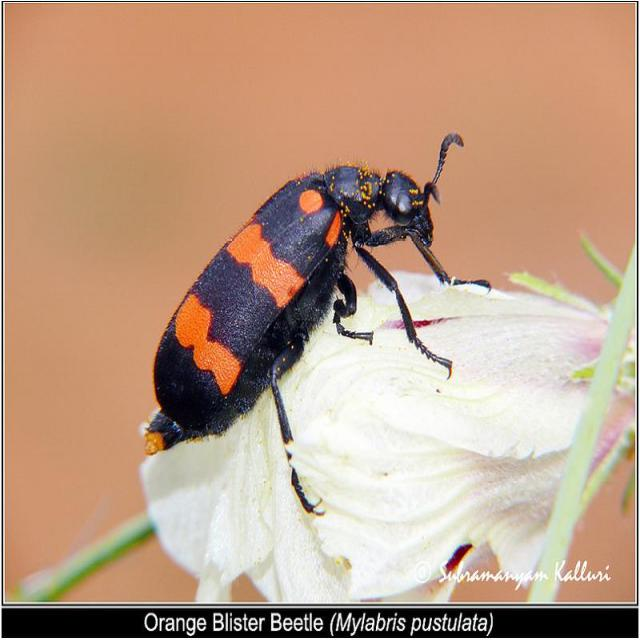BlisterBeetle-Adult-: (145, 119, 503, 522)
